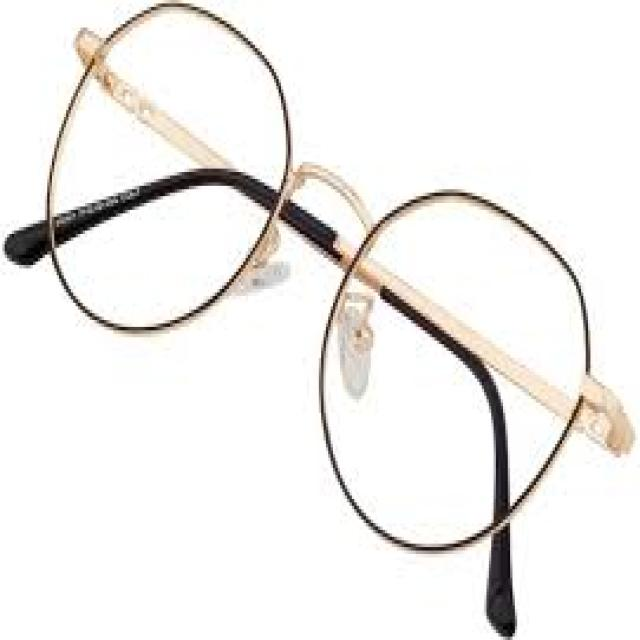specticles: (2, 3, 636, 640)
